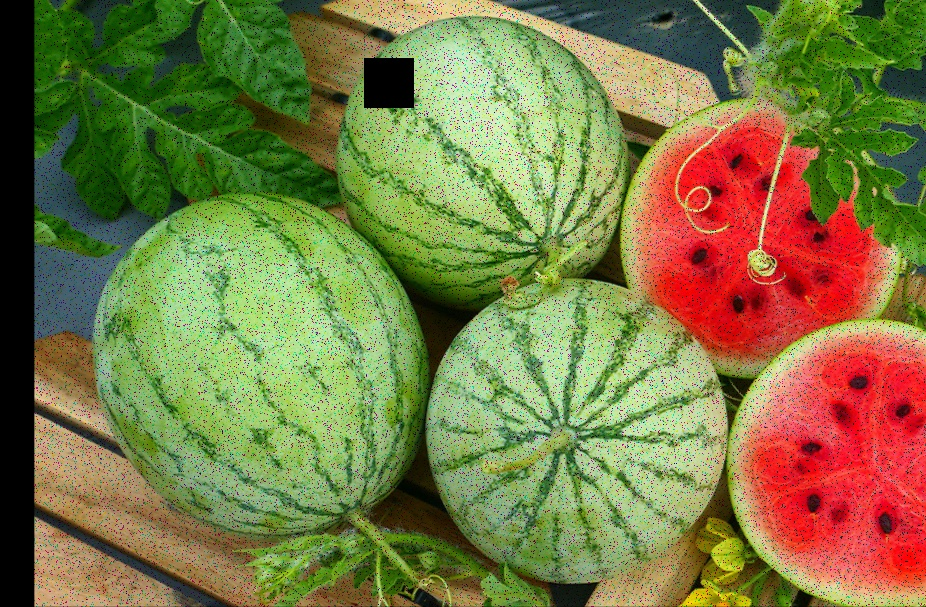watermelon: (89, 200, 427, 537), (432, 275, 728, 598), (327, 15, 625, 294)
